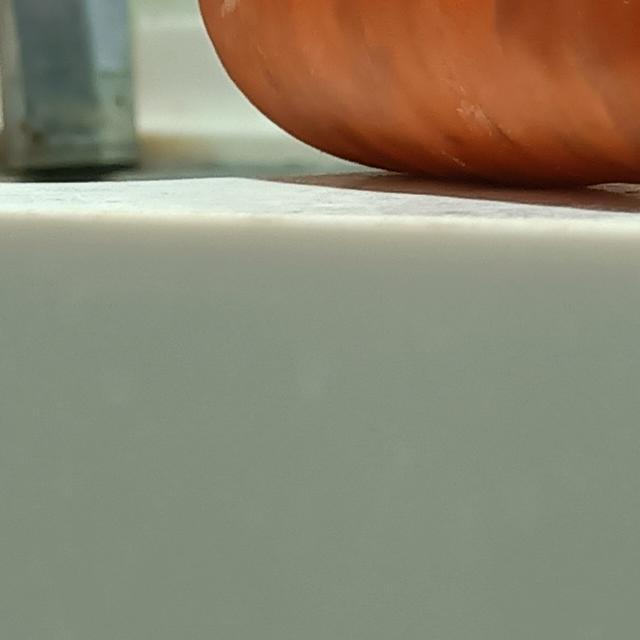carrot: (182, 1, 640, 191)
